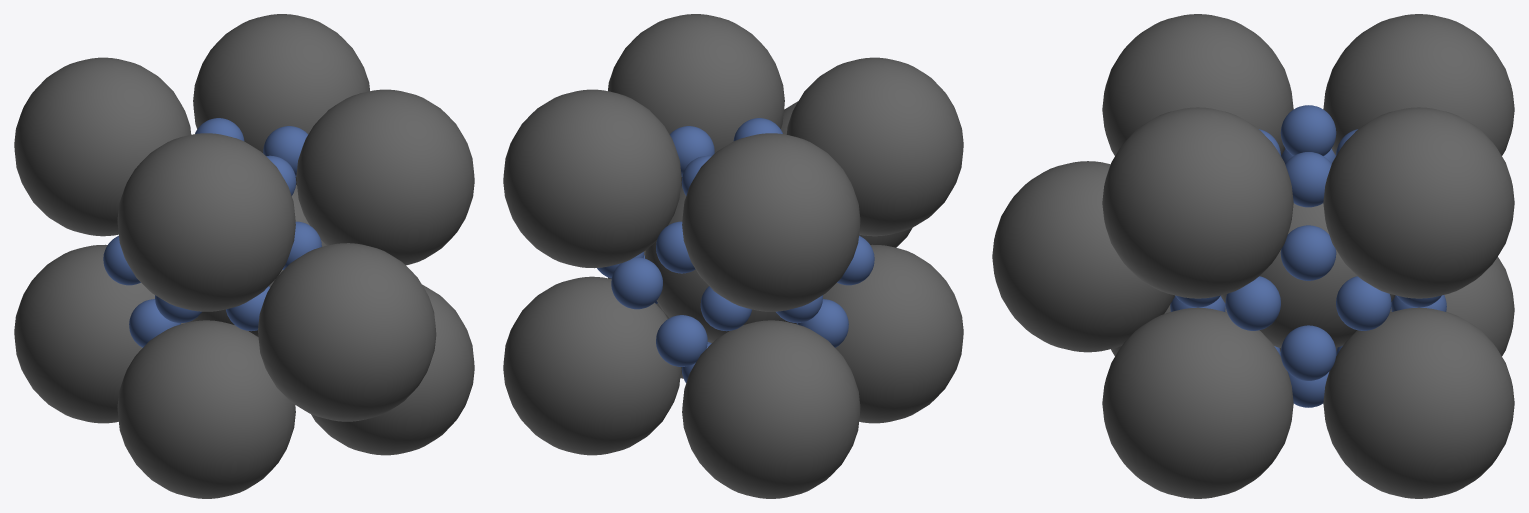
File: krz_TL_erweitert.glb
The picture shows the model from 3 angles, left to right: view 1: azimuth 30°, elevation 25°; view 2: azimuth 150°, elevation 25°; view 3: azimuth 270°, elevation 25°; orthographic projection. The views are drawn at different scales.
Parts seen in each view (by area): view 1: Sphere.006, Sphere.002, Sphere.011; view 2: Sphere.006, Sphere.011, Sphere.002; view 3: Sphere.006, Sphere.002, Sphere.011.
Part boxes in pixels (x1,y1,x2,y2): Sphere.006: (14,14,474,498); Sphere.002: (258,243,436,421); Sphere.011: (103,118,321,347); Sphere.006: (503,14,963,498); Sphere.011: (597,118,874,382); Sphere.002: (781,101,912,247); Sphere.006: (1102,14,1514,498); Sphere.002: (992,161,1174,352); Sphere.011: (1170,105,1446,407).
Size of the model in its own units: 4.31 by 4.31 by 5.46.
